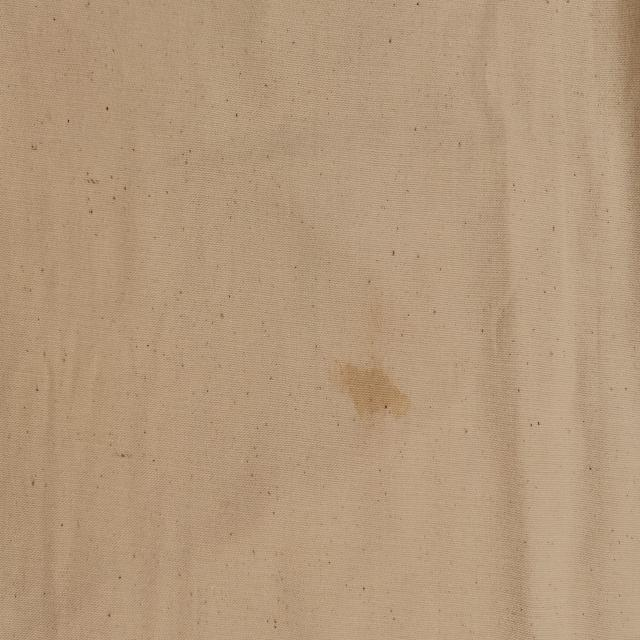taaaches: (337, 333, 416, 443)
